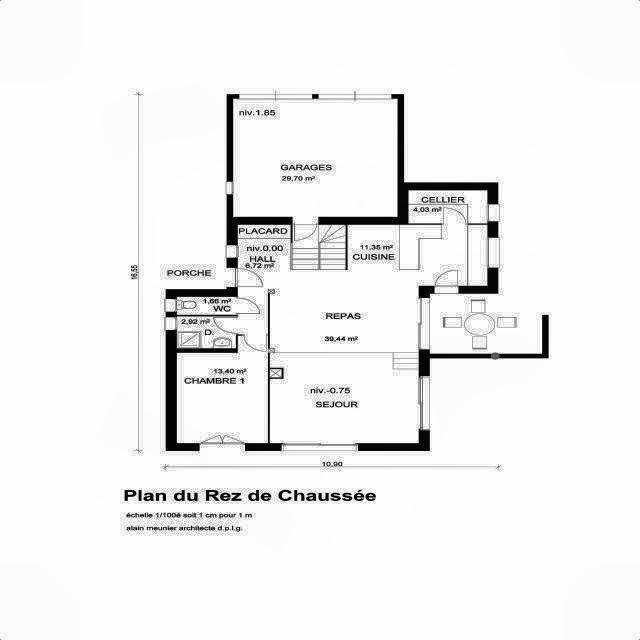room: (237, 224, 487, 443), (234, 99, 398, 217), (177, 336, 268, 443), (409, 191, 487, 224), (177, 316, 236, 348), (177, 297, 236, 315)
